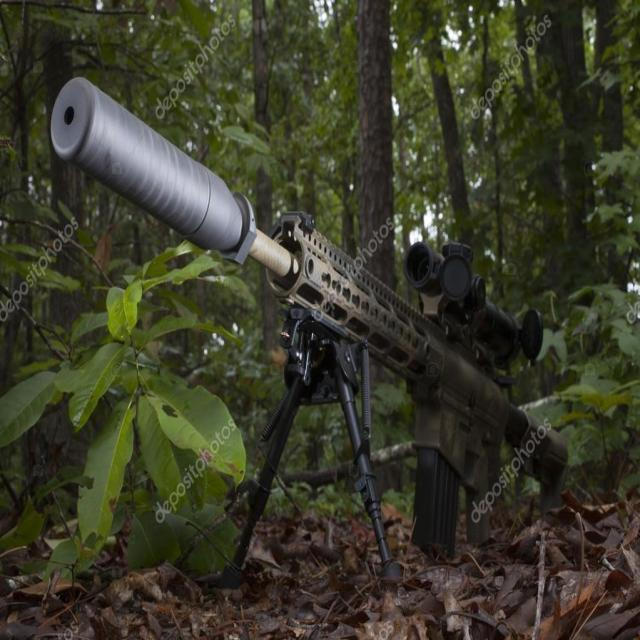Rifle: (54, 78, 569, 558)
